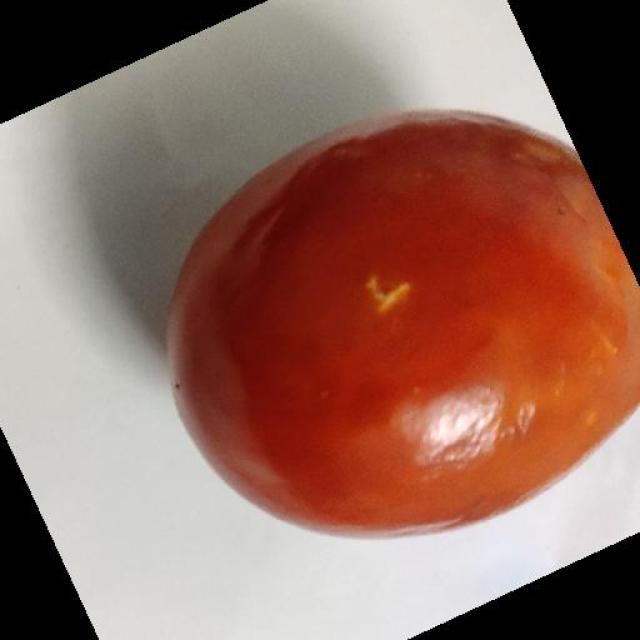Stale_tomato: (186, 139, 640, 480)
